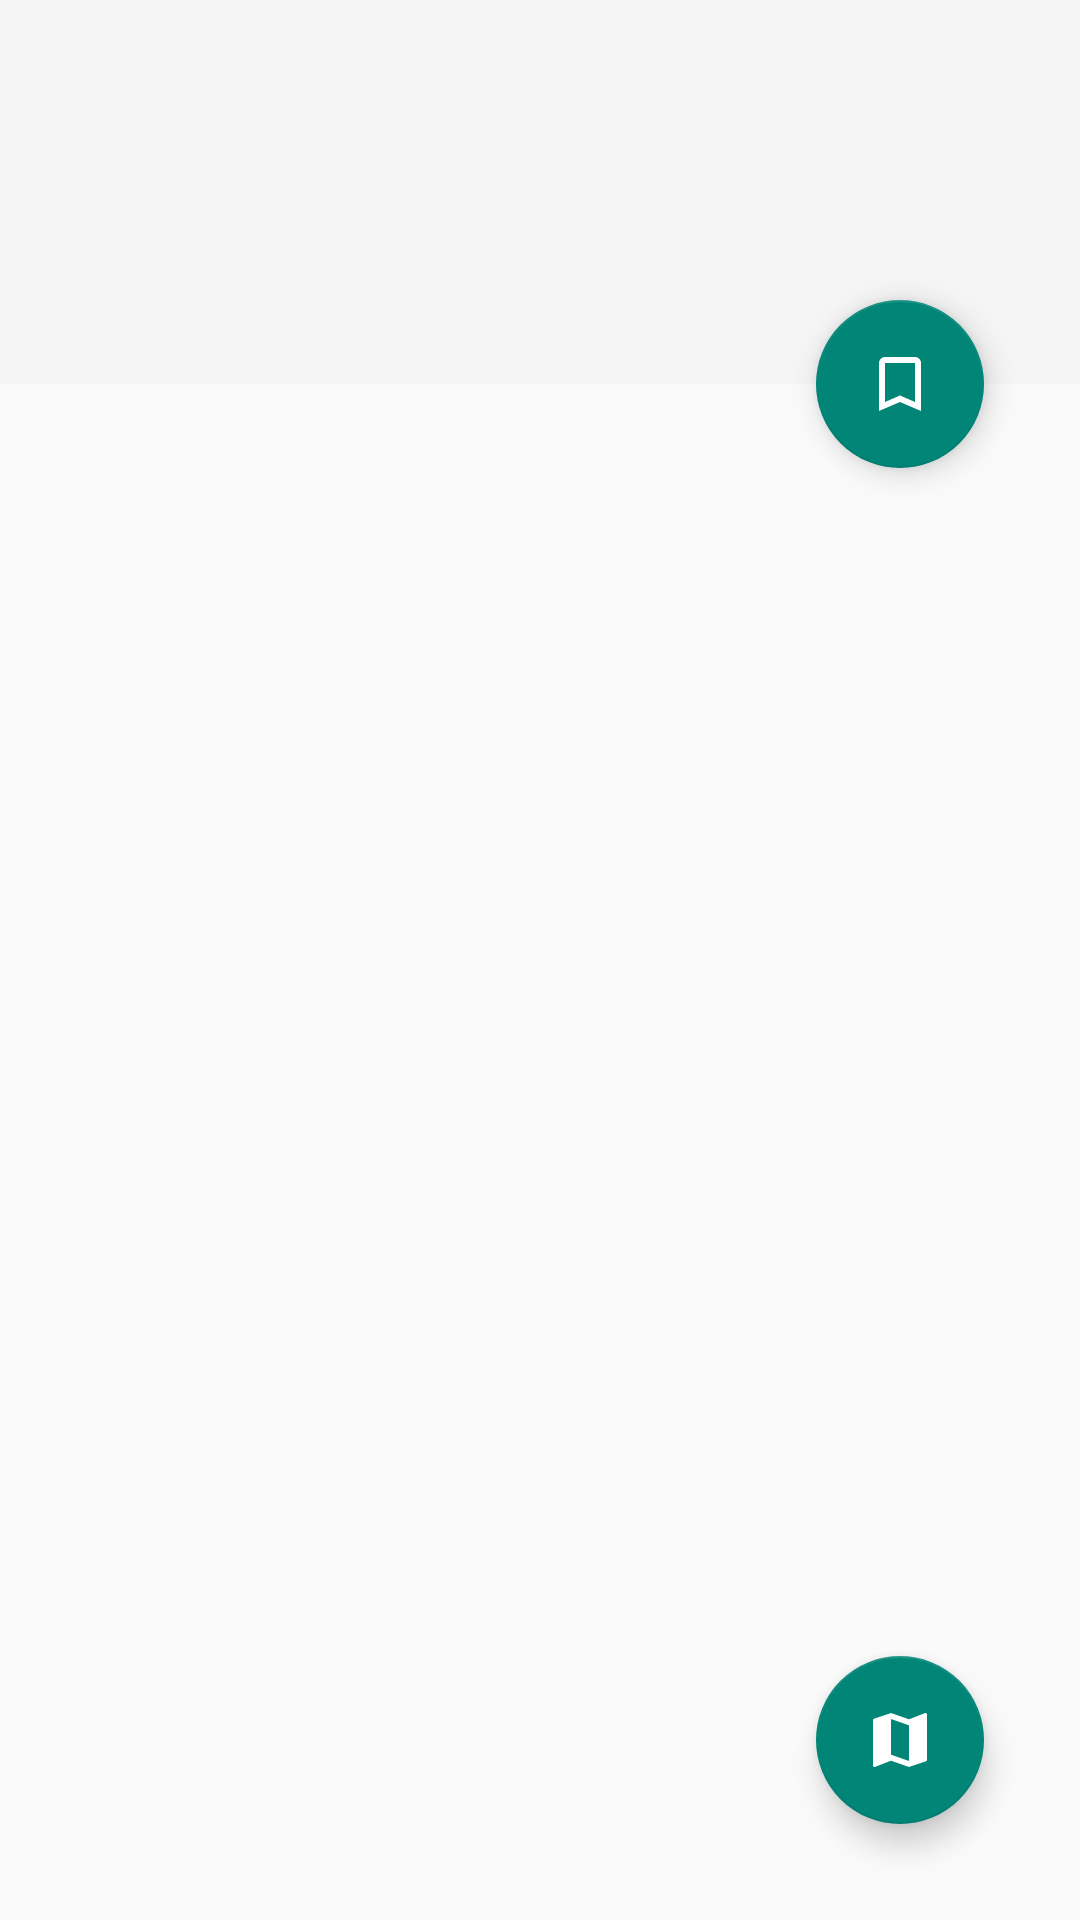

Icon bounding boxes for this 1080px×1920px phone screenshot, format (x1, y1, x2, y2):
bookmark border: (816, 300, 984, 468)
map: (816, 1656, 984, 1824)
